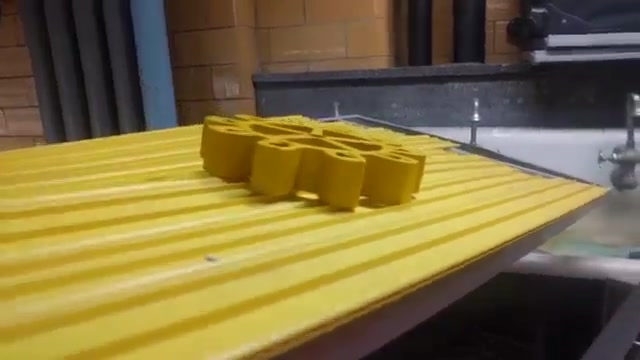gear: (192, 95, 434, 217)
